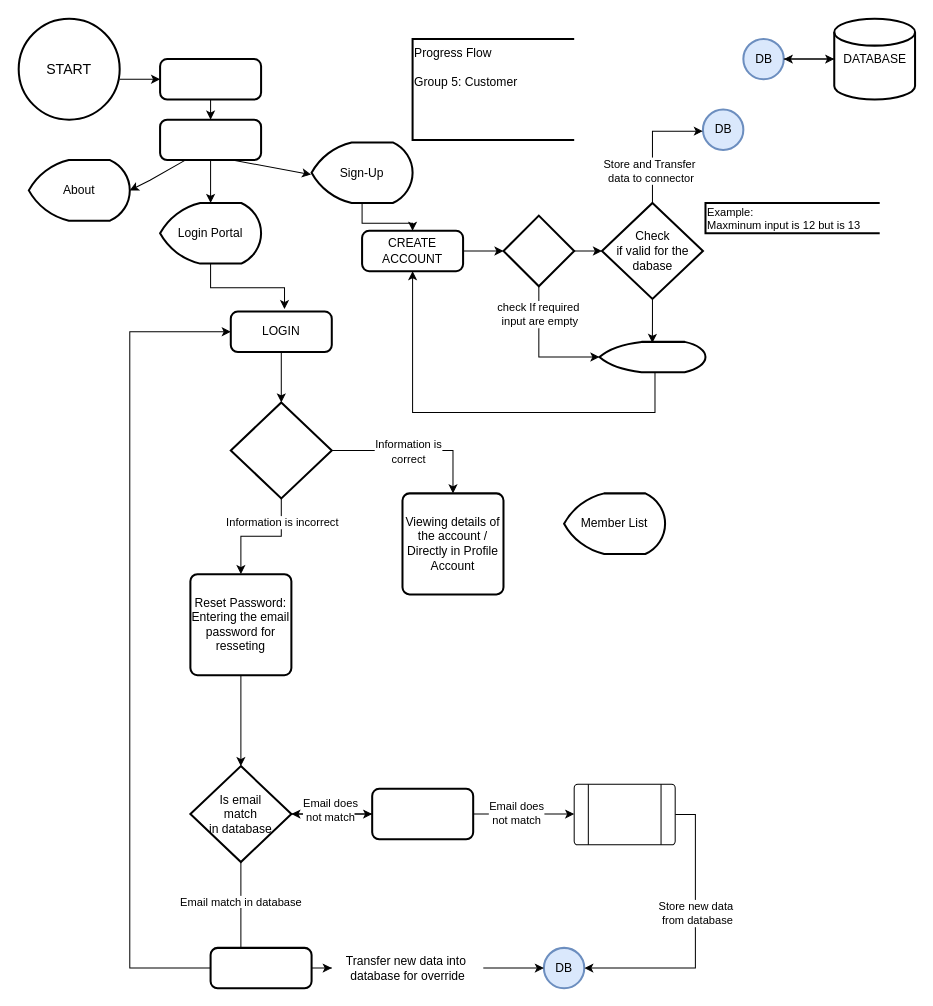
The diagram is 933 pixels wide and 1006 high, and some of its shapes have lost their labels. The centre of each missing label's shape, as x and y in pixels:
Check if matching the dabase: (280,450)
Check Required: (538,250)
Display Errors: (652,356)
Enter new password: (260,967)
Home Page: (210,139)
Re-Enter email address again: (422,813)
Registration Form (Sign-In): (624,814)
Website / HTML: (210,79)
